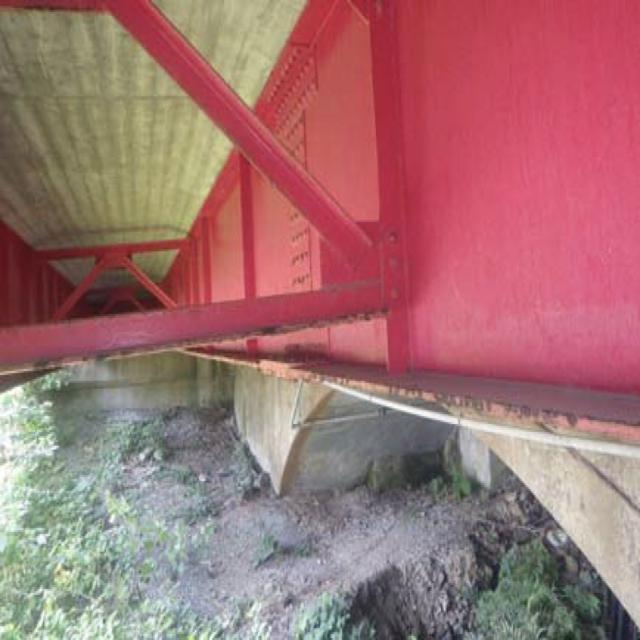corrosion: (270, 332, 591, 437)
